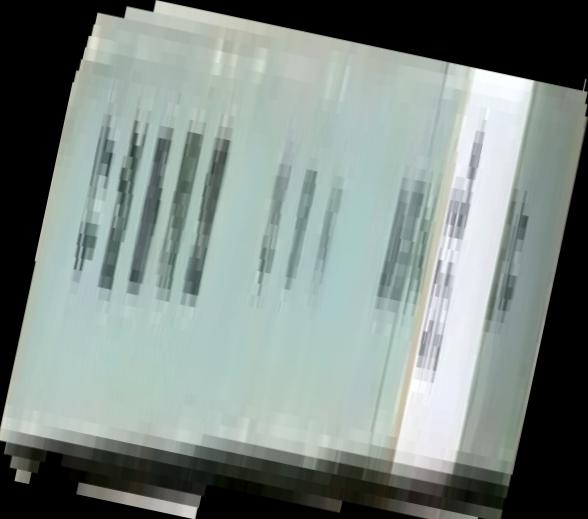flat: (1, 1, 588, 519)
